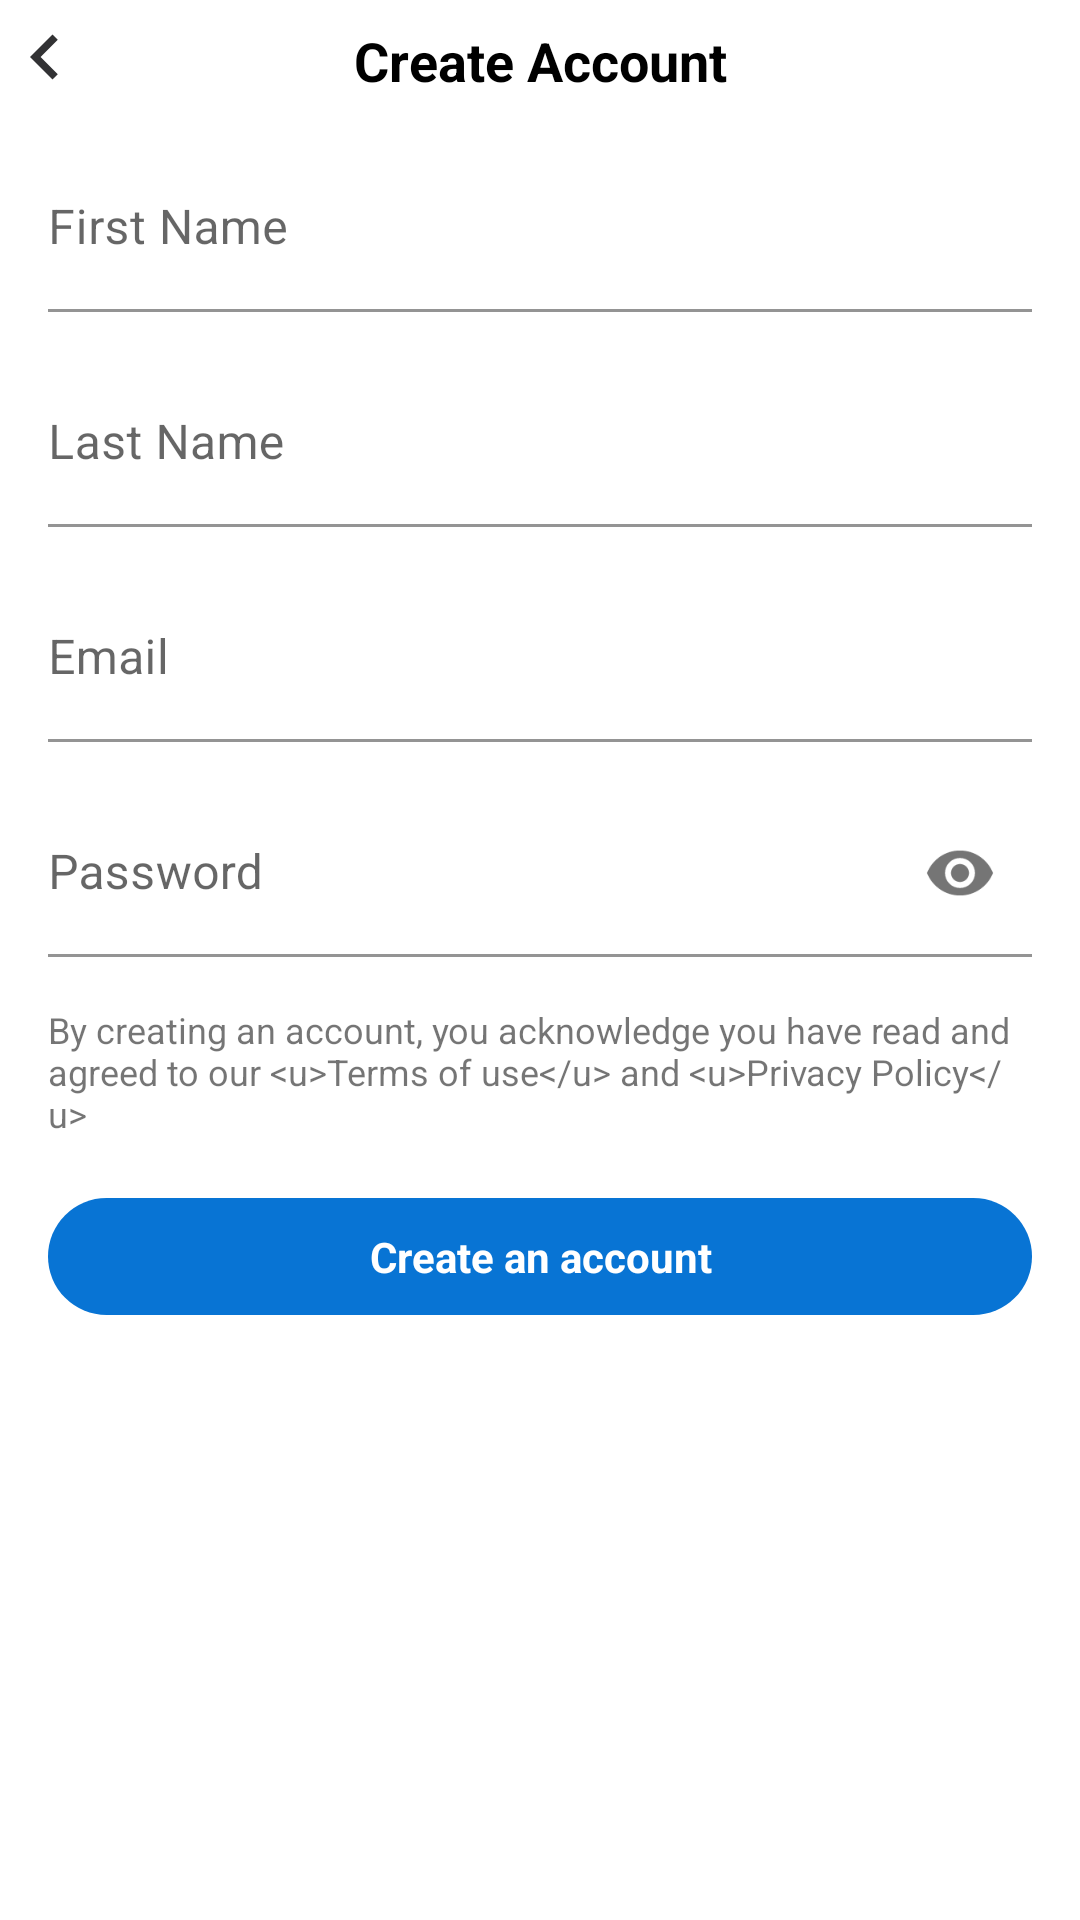

Locate icon controls on the screen. Image size 1080x1920, boxes as bbox(x1, y1, x2, y2).
arrow left: bbox(30, 34, 58, 80)
